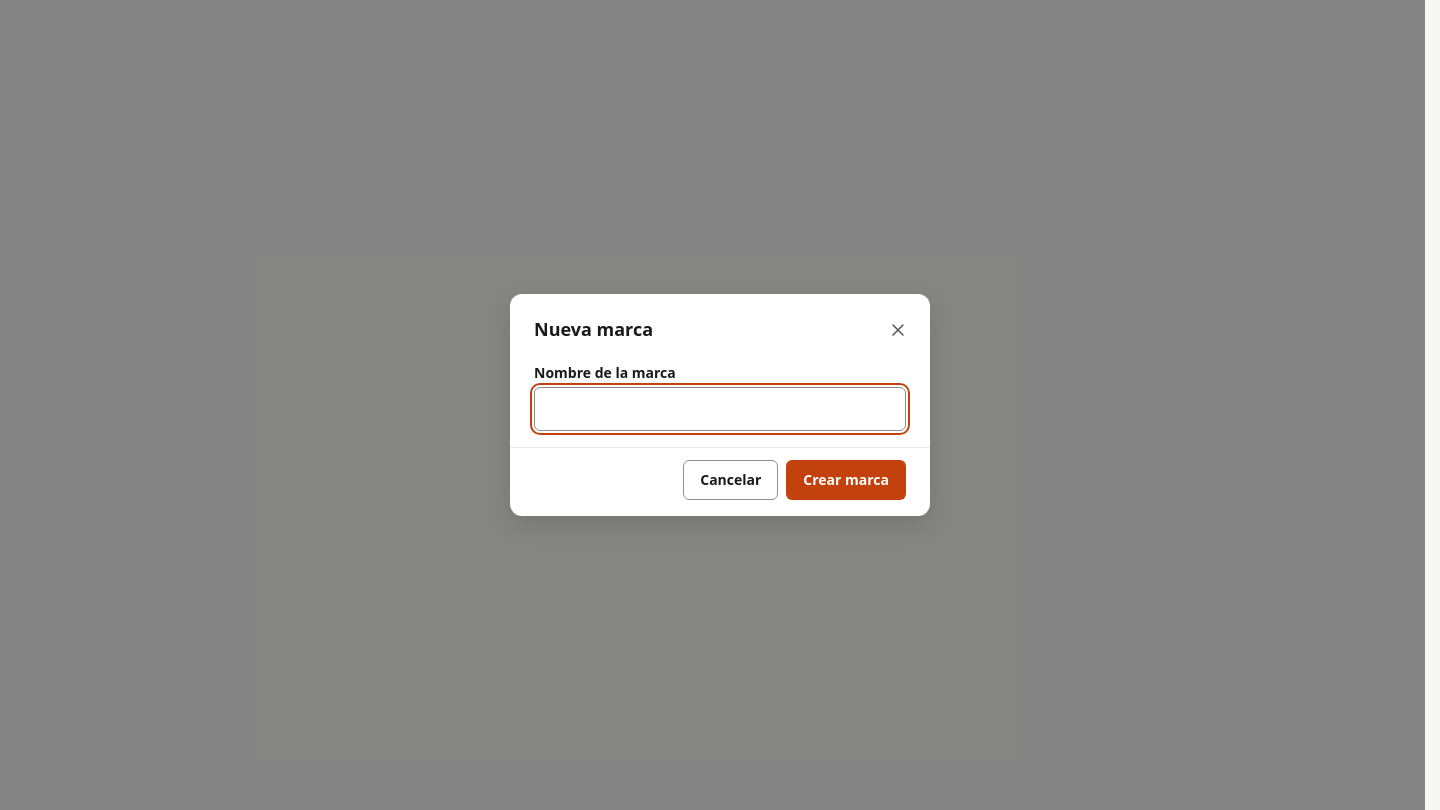
Test case: <DialogoNombre> › vacío: error visible, sin envío
The width and height of the screenshot is (1440, 810).
Click the button "Crear marca". click: click(846, 480)
box: [786,460,906,500]
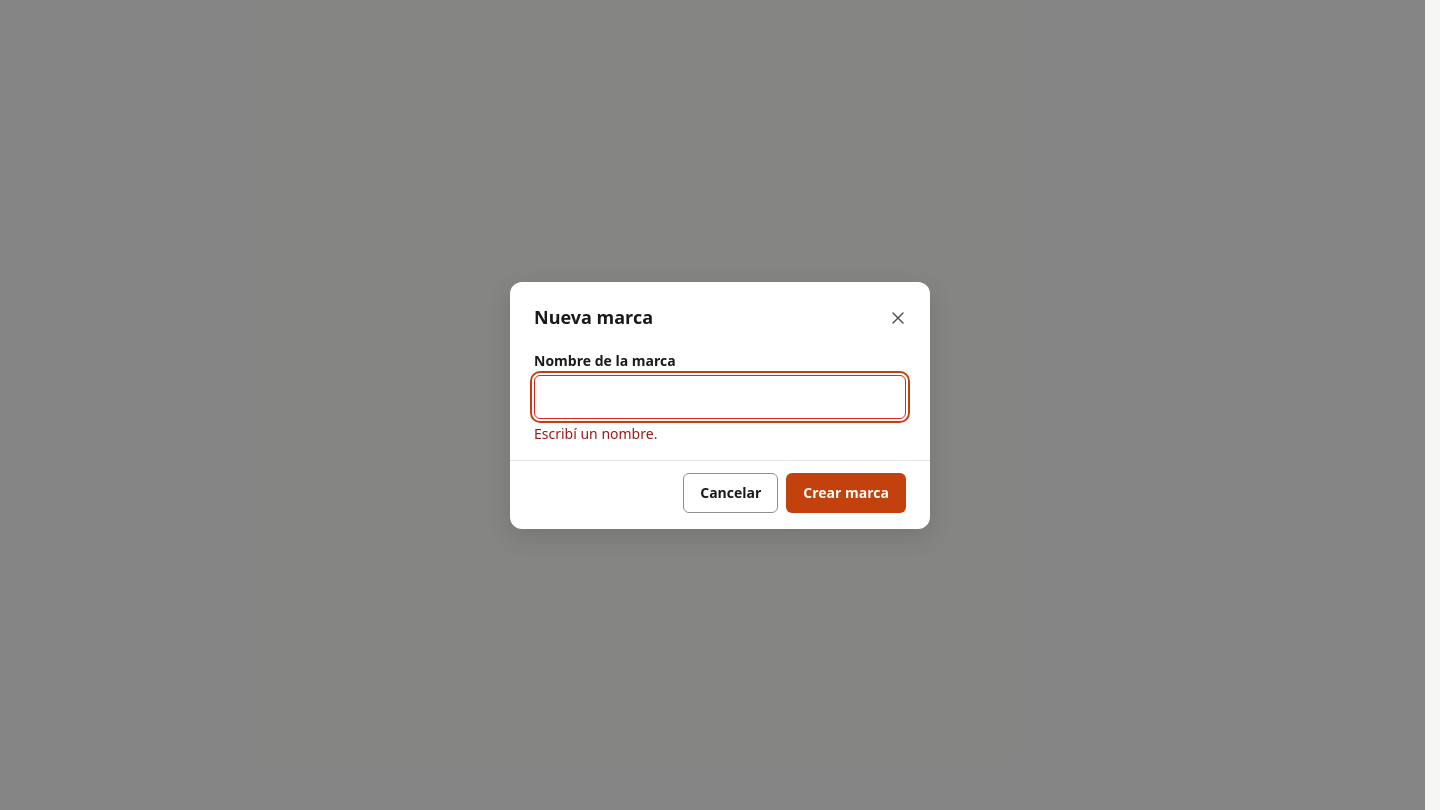
Expected: the message reads "Escribí un nombre.", [534,424,657,442]
